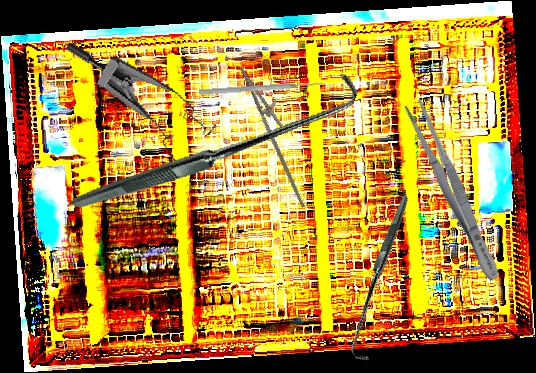Dressing Forceps: (401, 97, 506, 285)
Hook Surgical: (69, 1, 362, 284), (296, 194, 469, 365)
Needle Holder: (223, 60, 331, 209)
Pusher: (198, 79, 327, 97)
Speculum: (41, 39, 228, 173)
